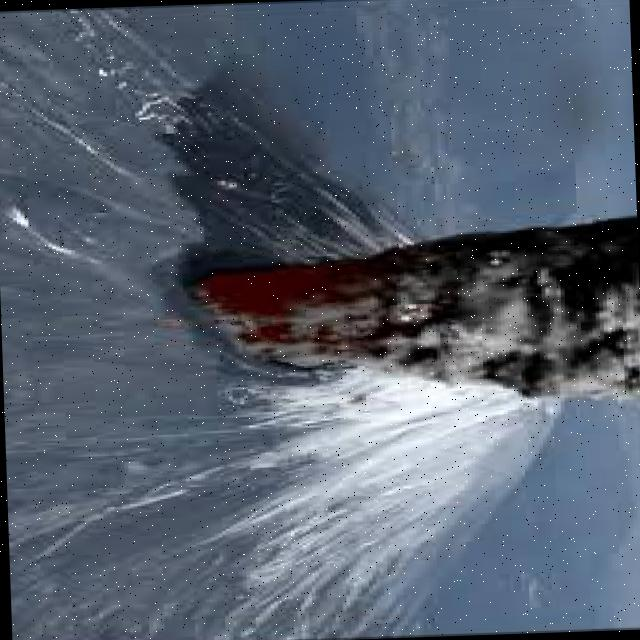explosion: (111, 173, 604, 474)
